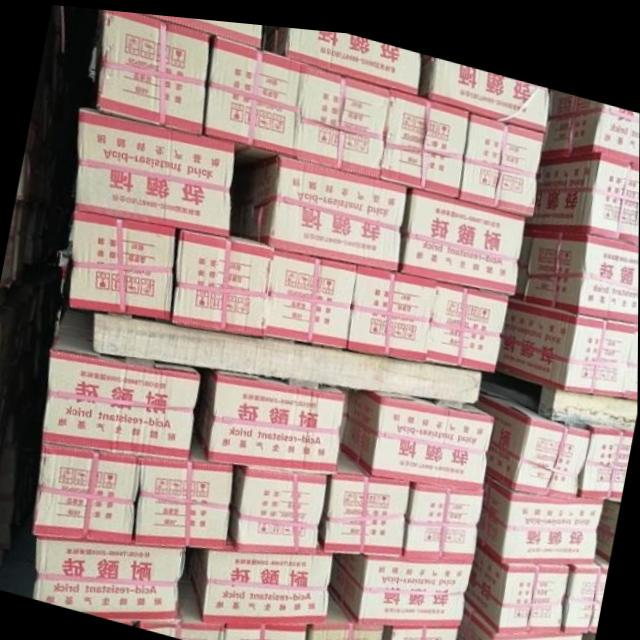box: (42, 306, 200, 454), (76, 104, 234, 233), (243, 147, 407, 263), (196, 365, 345, 466), (340, 382, 493, 480), (495, 285, 638, 385), (95, 8, 210, 130), (400, 179, 526, 286), (477, 371, 590, 489), (464, 533, 609, 622), (202, 30, 300, 159), (32, 537, 186, 615), (517, 213, 639, 311), (69, 209, 176, 318), (474, 466, 602, 554), (171, 224, 274, 332), (294, 56, 391, 170), (135, 433, 235, 542), (187, 545, 334, 619), (329, 546, 472, 621), (31, 441, 140, 538), (417, 46, 552, 122), (268, 20, 421, 87), (530, 140, 639, 233), (318, 440, 411, 547), (265, 242, 358, 342), (382, 80, 468, 187), (457, 103, 546, 204), (227, 459, 329, 547), (347, 259, 437, 352), (104, 573, 222, 640), (425, 271, 508, 361), (542, 77, 640, 151), (401, 472, 484, 553), (454, 593, 582, 640), (306, 581, 382, 640), (575, 417, 634, 490), (143, 11, 261, 43), (224, 617, 310, 640), (382, 616, 458, 640), (595, 487, 620, 551)
